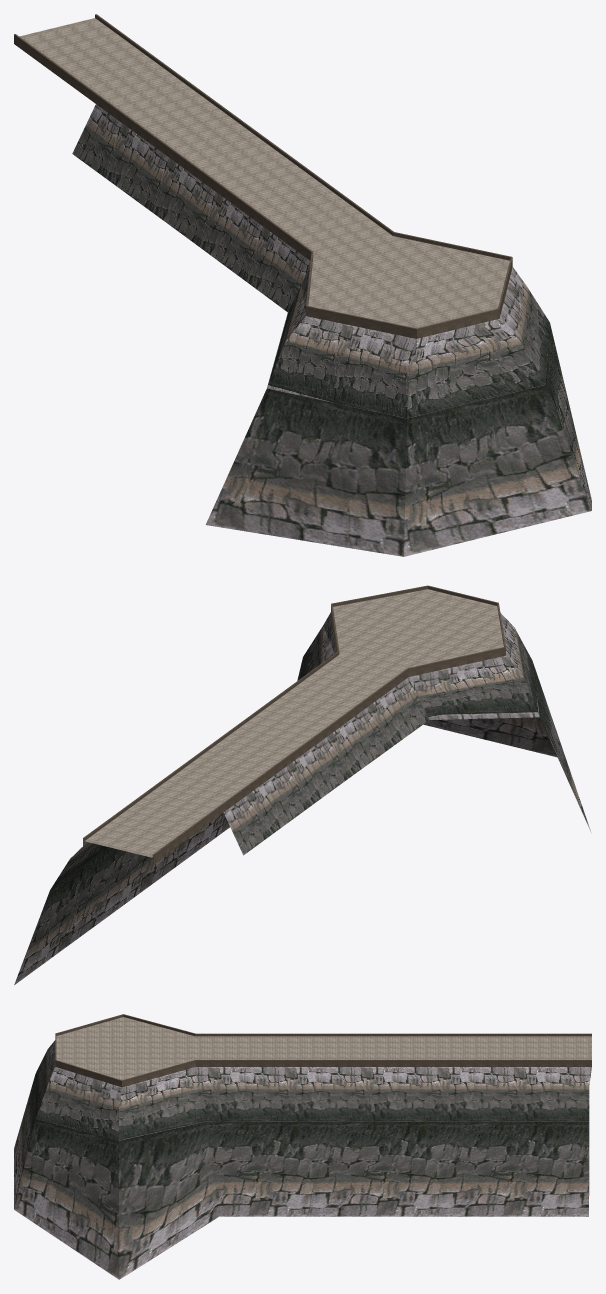
The model's file is lawborder2c_law2.obj.
3 views of the same model, one above another, from view 1: azimuth 30°, elevation 25°; view 2: azimuth 150°, elevation 25°; view 3: azimuth 270°, elevation 25° (orthographic). The views are drawn at different scales.
Parts seen in each view (by area): view 1: lawborder2c_LAW2; view 2: lawborder2c_LAW2; view 3: lawborder2c_LAW2.
Part boxes in pixels (x1,y1,x2,y2): lawborder2c_LAW2: (14,14,591,556); lawborder2c_LAW2: (14,585,591,984); lawborder2c_LAW2: (14,1014,591,1279).
Bounding box in the file's own units: 70.48 × 45.87 × 138.
